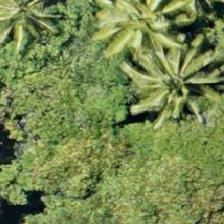coconut_tree: (125, 47, 215, 137), (98, 0, 188, 71), (0, 0, 64, 50)
